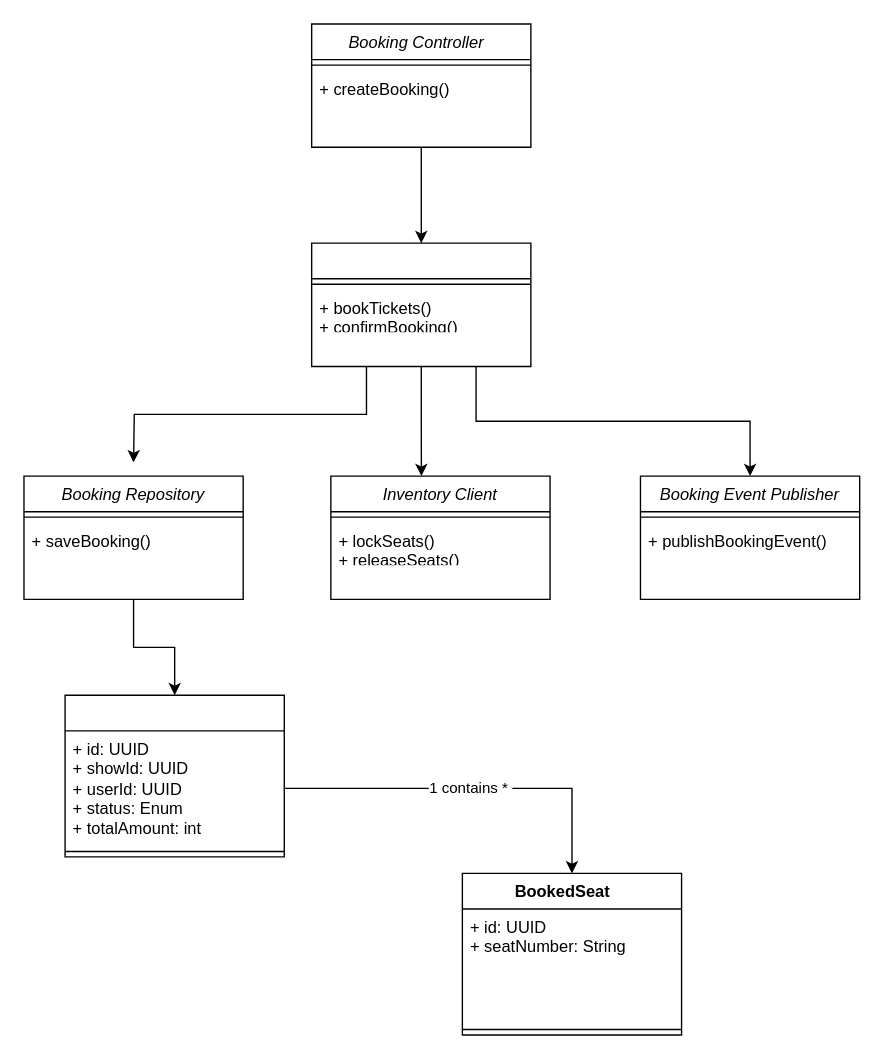
Some shapes in this 884 by 1059 pixel diagram are drawn without their labels. The box of each missing label's shape, as (x1, y1, x2, y2) in pixels:
Booking: (64, 694, 284, 857)
Booking Service: (310, 242, 531, 366)
